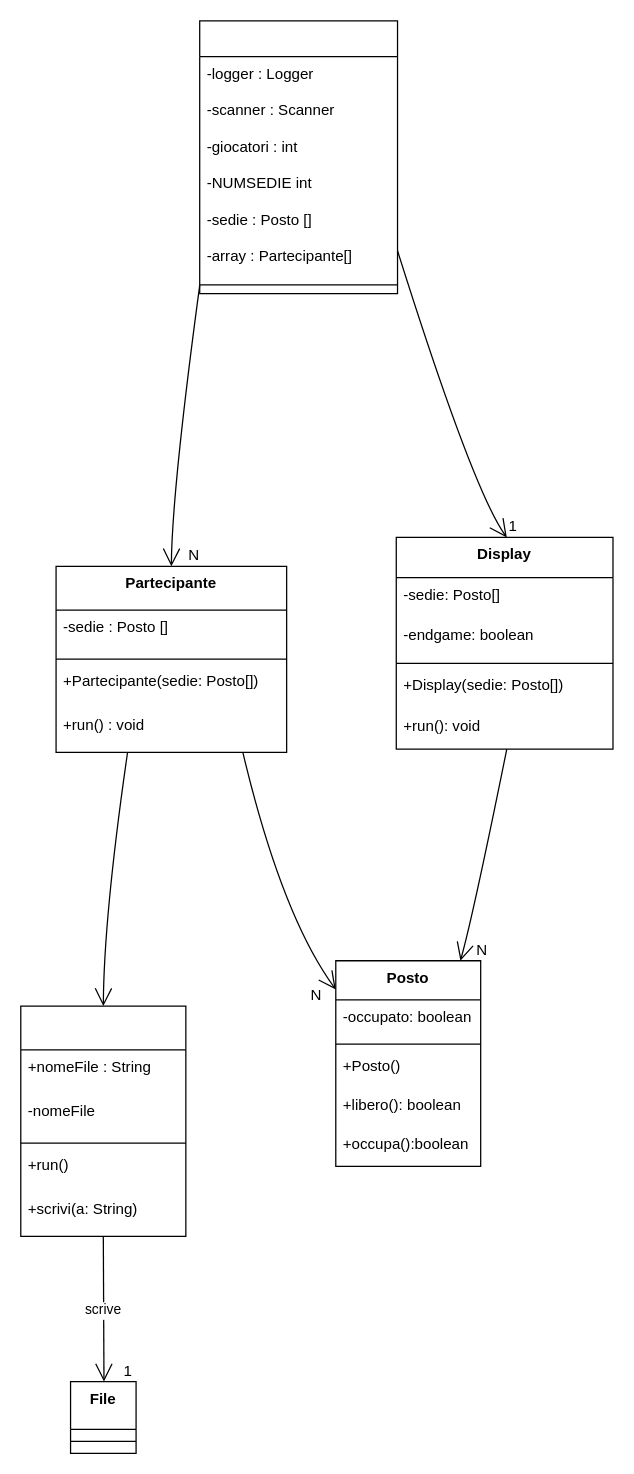
The diagram is 634 pixels wide and 1474 high, and some of its shapes have lost their labels. Each missing label, with the box of its shape:
Scrittore: (20, 1005, 186, 1236)
TestGiocoSedie: (198, 20, 398, 294)
